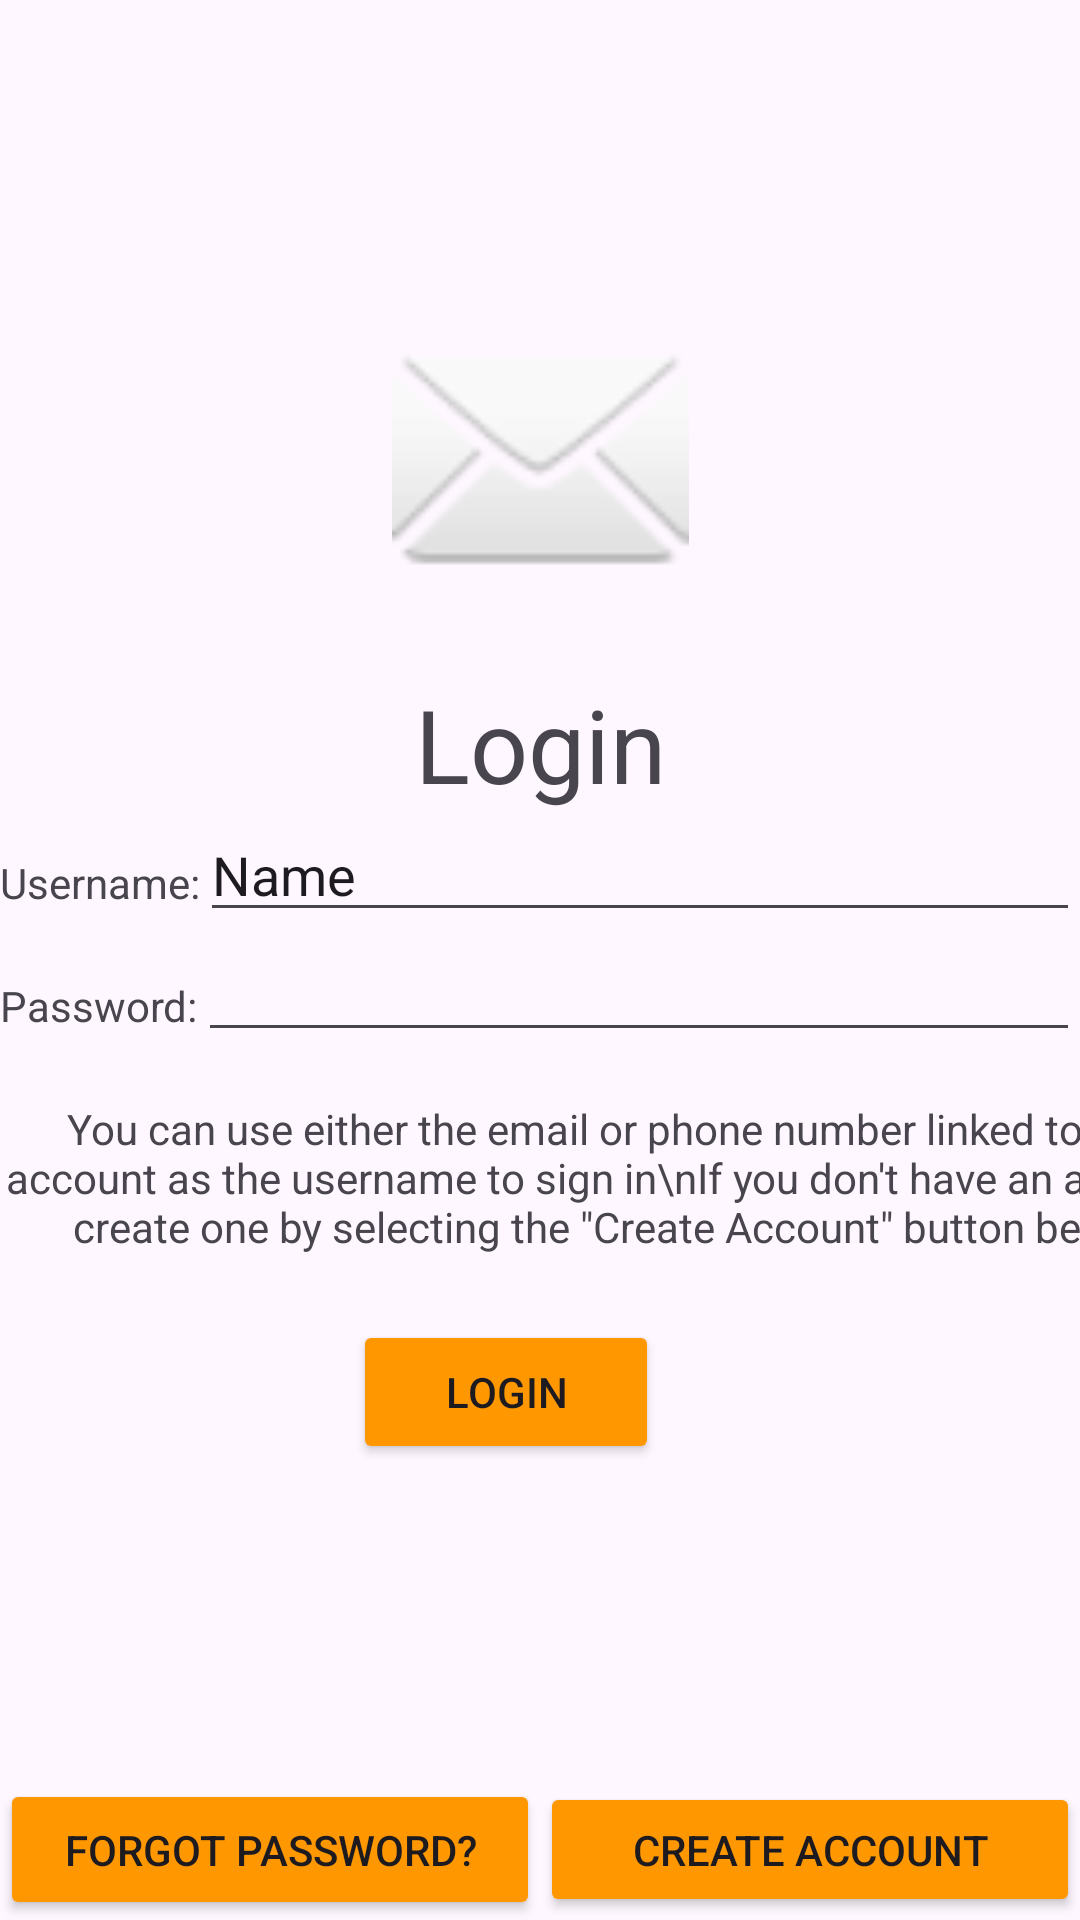

Icon bounding boxes for this 1080*1920 phone screenshot, format (x1, y1, x2, y2):
email: (392, 360, 689, 564)
